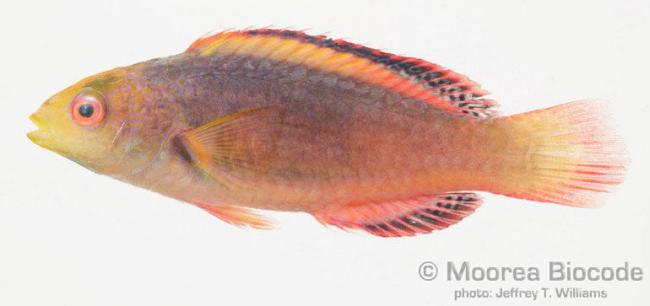fish: (26, 25, 632, 238)
